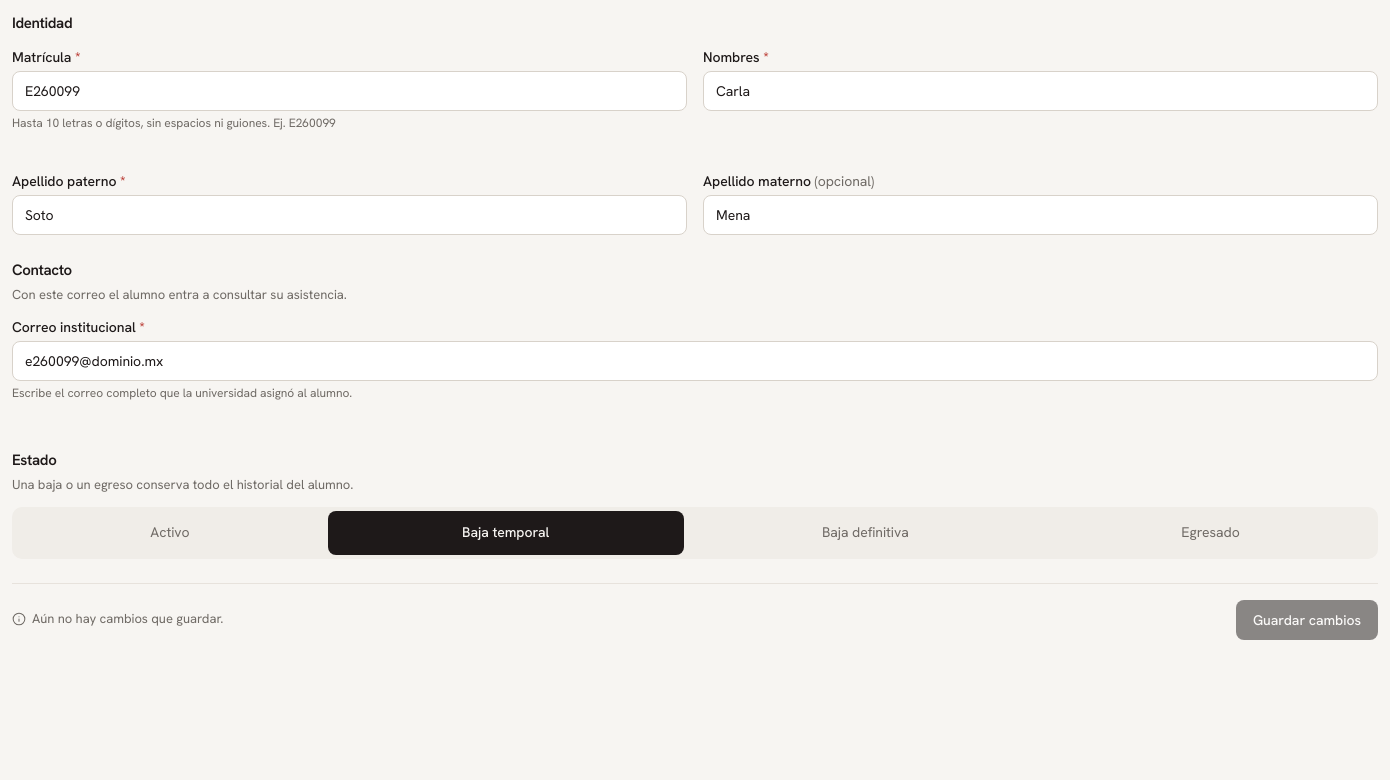
it: AlumnoForm (edición de la ficha) › reactivar avisa que no restituye las inscripciones
Click the radio button labelled "Activo": (170, 532) 16,510 -> 324,554
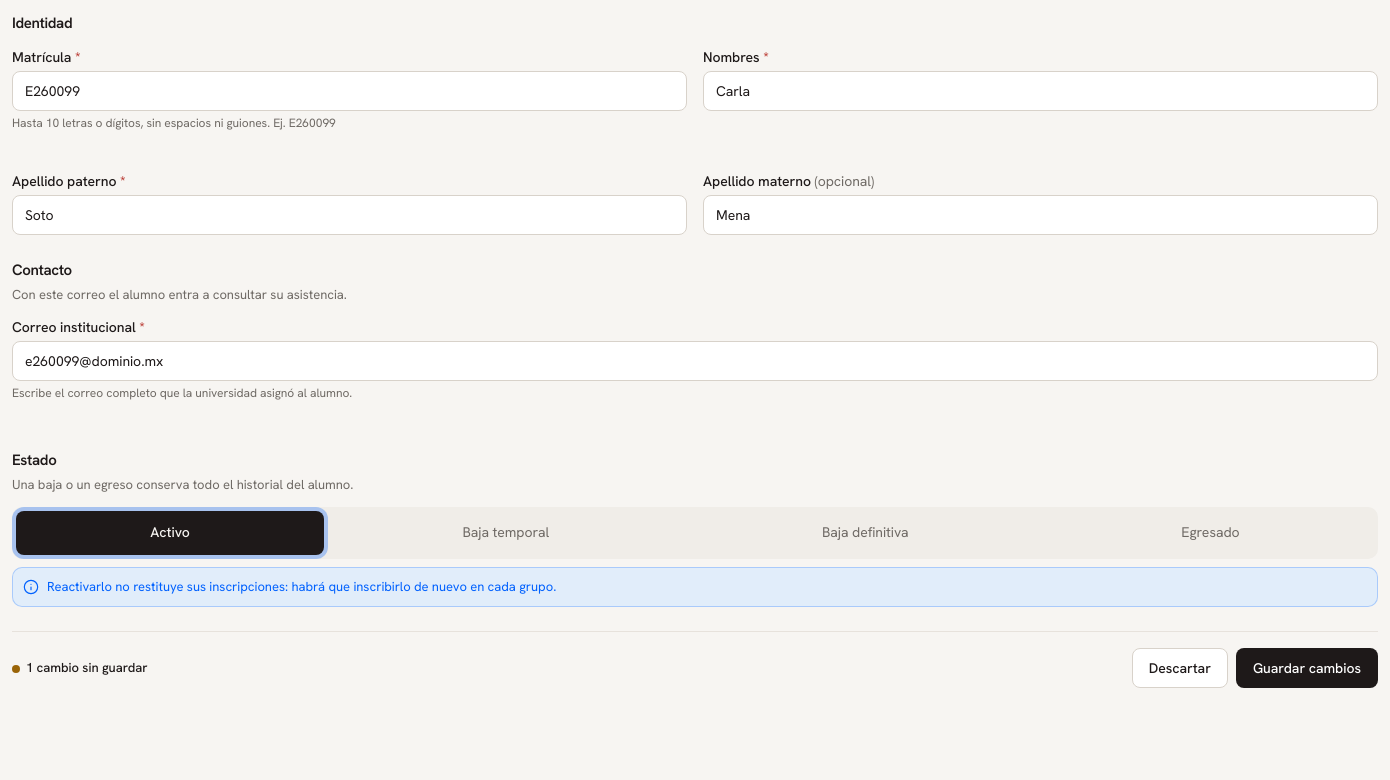
Result: the text "no restituye sus inscripciones" is shown at 47,578 -> 556,594
